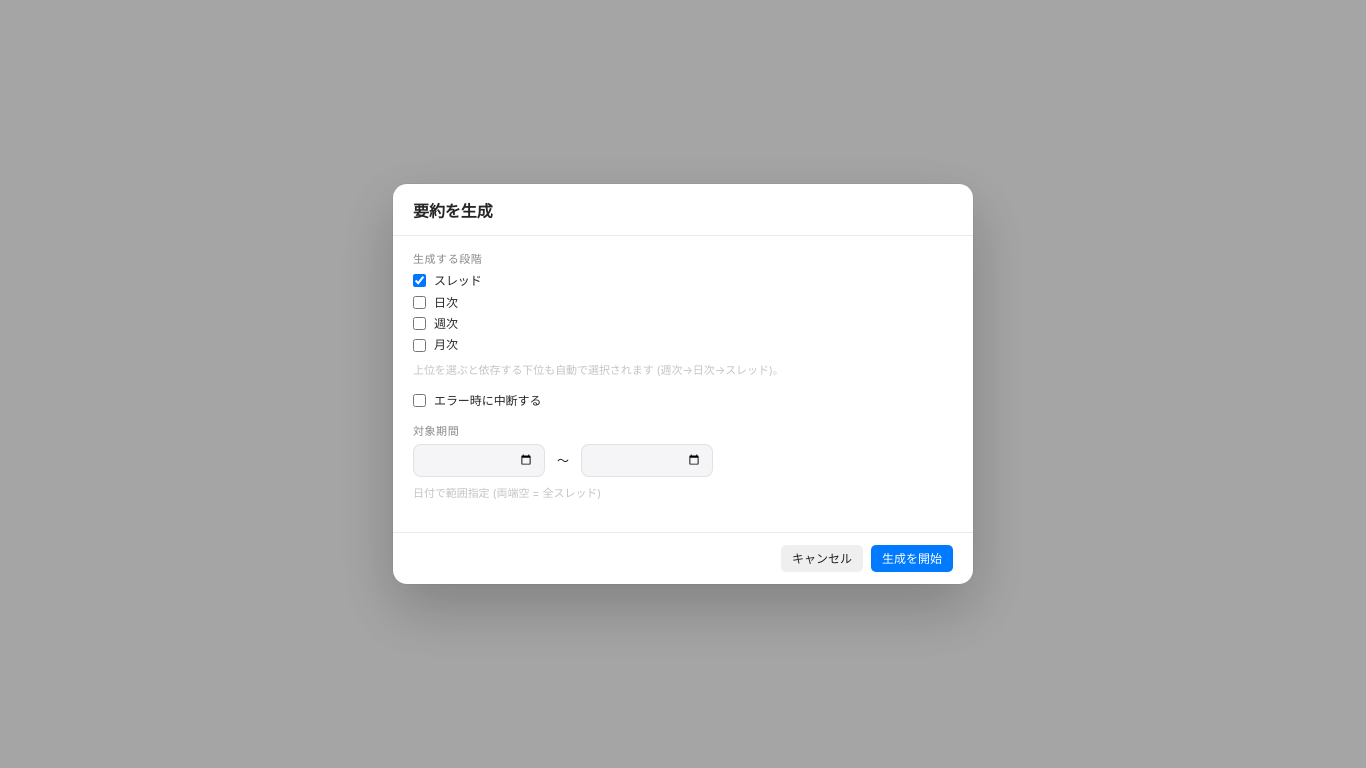
Test: SummaryGenerateDialog › turning on weekly auto-selects the finer layers (dependency)
What coordinates should you click on to do the following:
click the checkbox labelled "週次"
I would click on:
 (420, 324)
Its box is left=413, top=317, right=426, bottom=330.
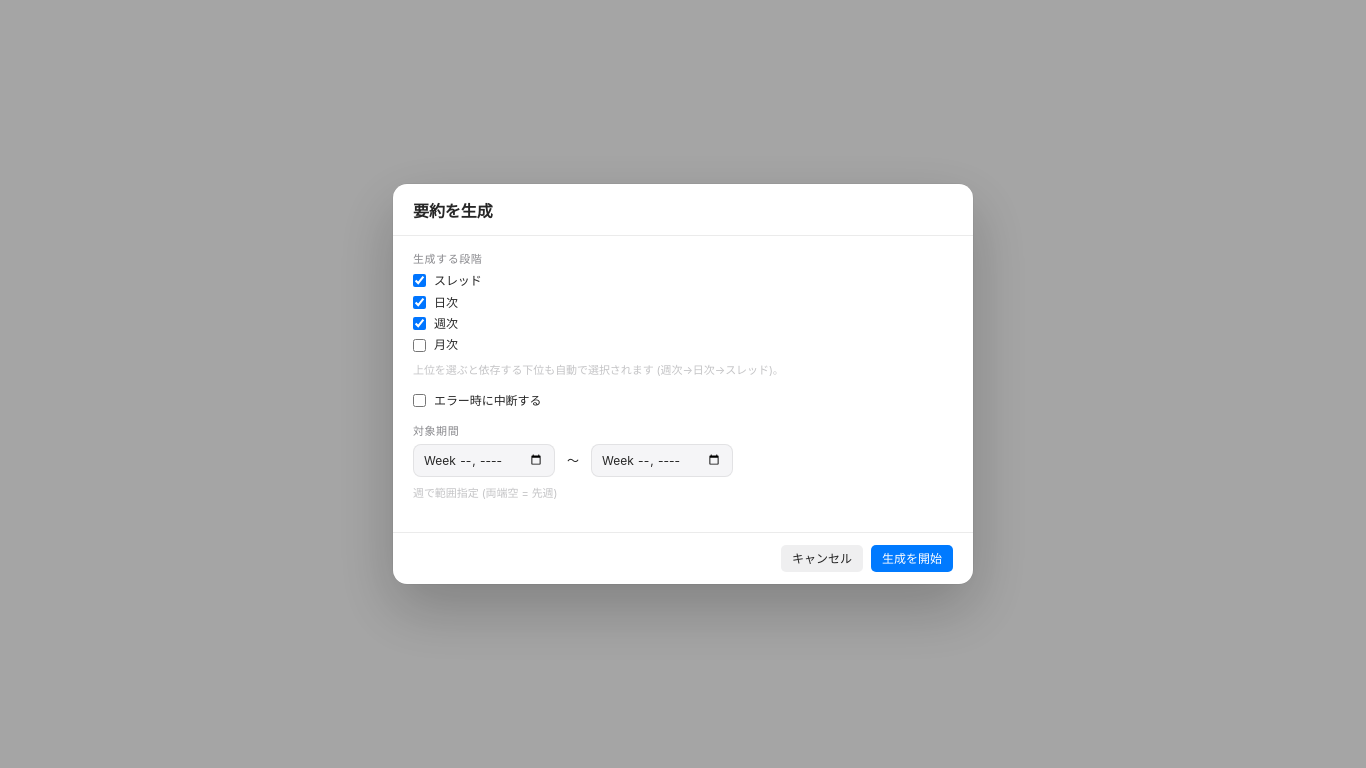
Expected: the checkbox labelled "スレッド" is checked, left=413, top=274, right=426, bottom=287
Expected: the checkbox labelled "週次" is checked, left=413, top=317, right=426, bottom=330
Expected: the checkbox labelled "日次" is checked, left=413, top=296, right=426, bottom=309
